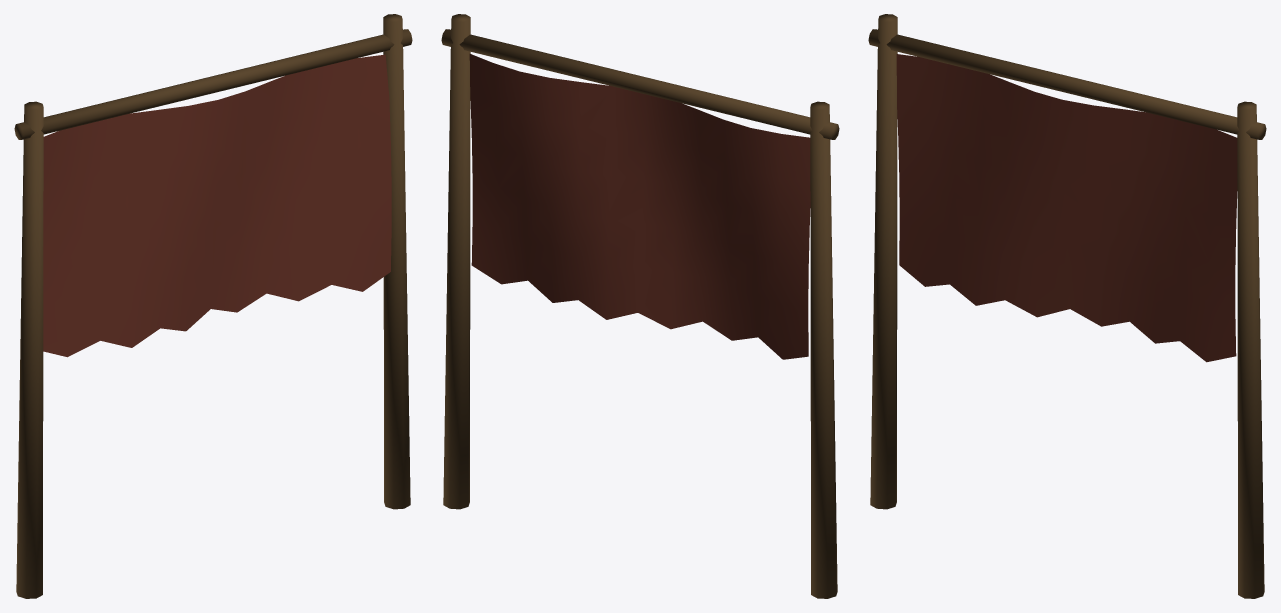
Rendered from banner.glb.
The picture shows the model from 3 angles, left to right: view 1: azimuth 30°, elevation 25°; view 2: azimuth 150°, elevation 25°; view 3: azimuth 330°, elevation 25°; orthographic projection.
Visible parts, largest first — view 1: MV_banner; view 2: MV_banner; view 3: MV_banner.
Part boxes in pixels (bbox=[...]): MV_banner: bbox=[14, 14, 412, 598]; MV_banner: bbox=[441, 14, 839, 598]; MV_banner: bbox=[868, 14, 1266, 598].
Bounding box in the file's own units: 1.81 × 2.15 × 0.11.
